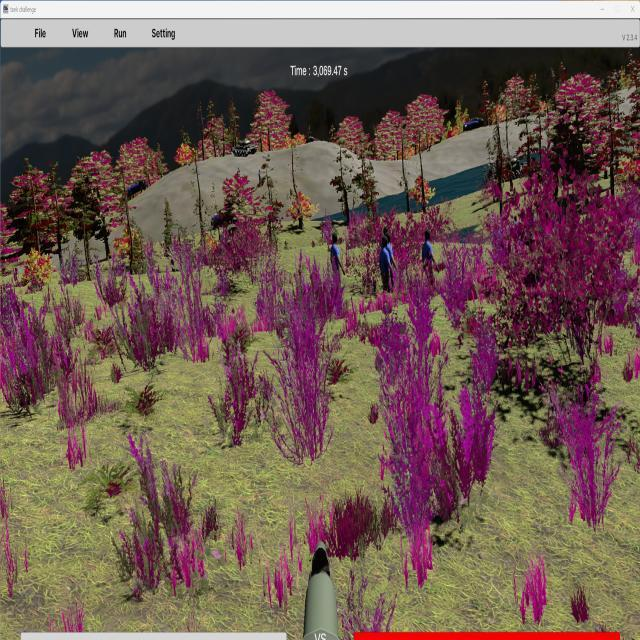Human: (380, 233, 397, 312)
Tank: (232, 137, 258, 157)
car: (125, 178, 147, 201)
